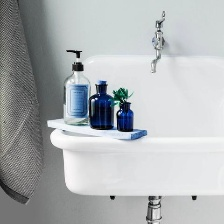bottle: (58, 65, 93, 126), (86, 81, 114, 131), (114, 100, 137, 133)
